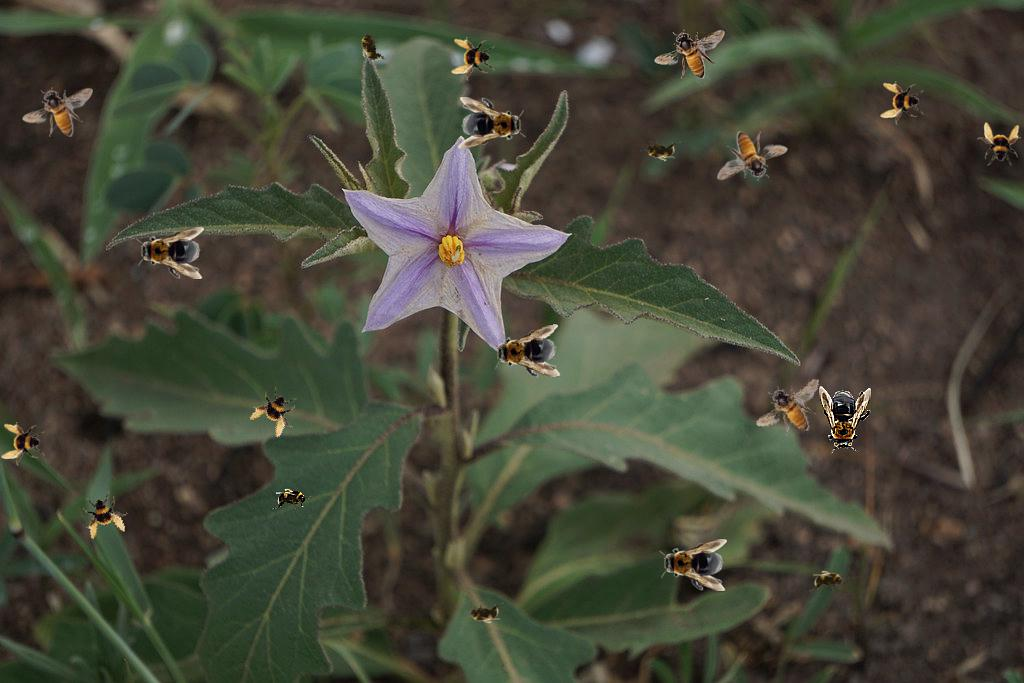Bee: (748, 377, 830, 442), (489, 324, 563, 382), (246, 382, 306, 442), (717, 131, 788, 181), (22, 87, 93, 137), (654, 29, 725, 79), (458, 97, 526, 149), (659, 539, 727, 591), (819, 386, 871, 454), (136, 227, 204, 279), (77, 487, 133, 543), (977, 122, 1021, 166), (880, 81, 924, 125), (1, 422, 45, 466), (451, 37, 495, 81), (354, 24, 388, 70), (638, 136, 682, 164), (464, 602, 504, 624), (809, 570, 849, 592), (272, 488, 312, 510)
